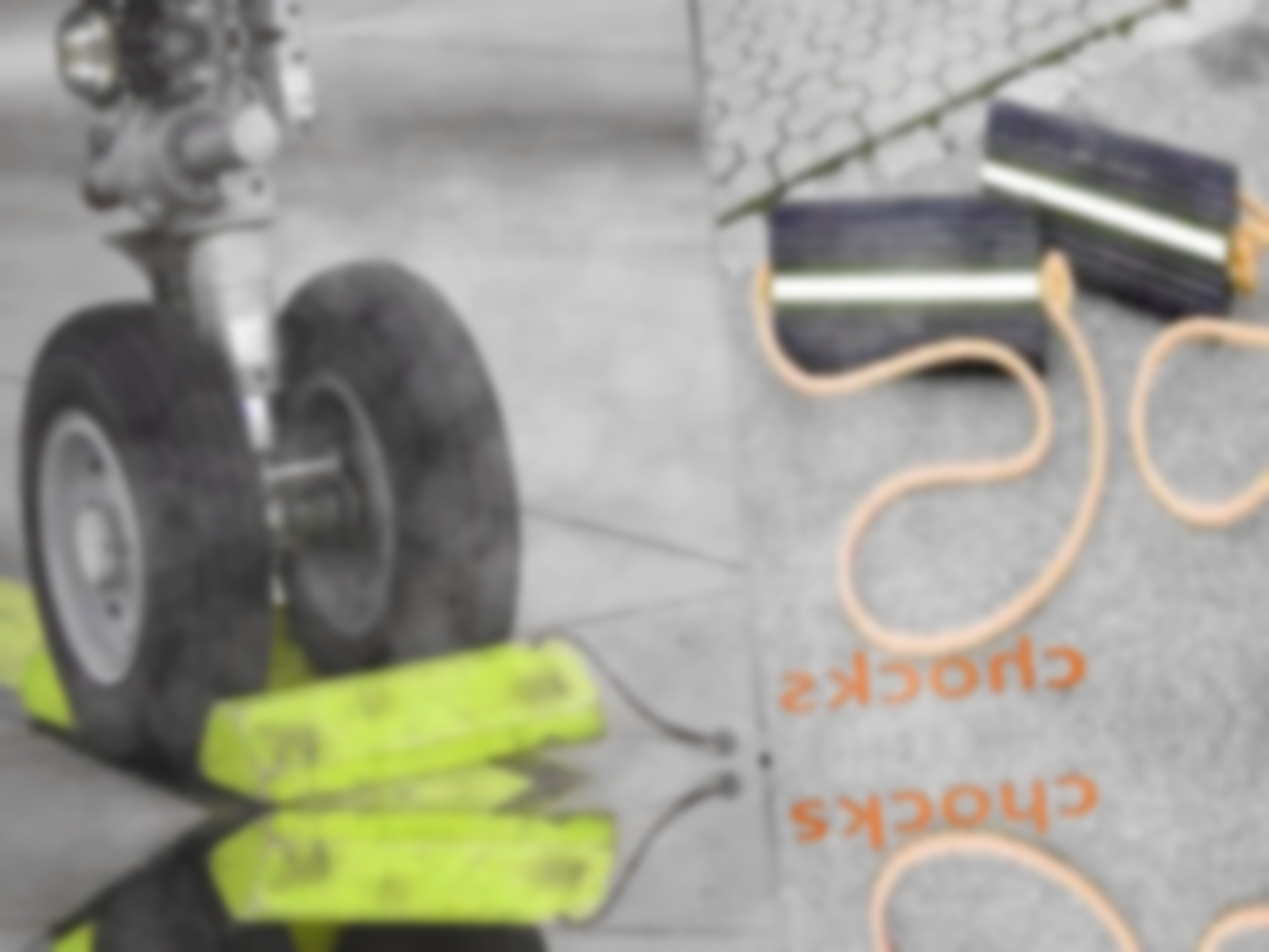chock: (183, 621, 616, 805), (967, 73, 1255, 341), (198, 785, 631, 952), (743, 178, 1057, 402)
wheel: (2, 292, 289, 782), (253, 248, 537, 688)
